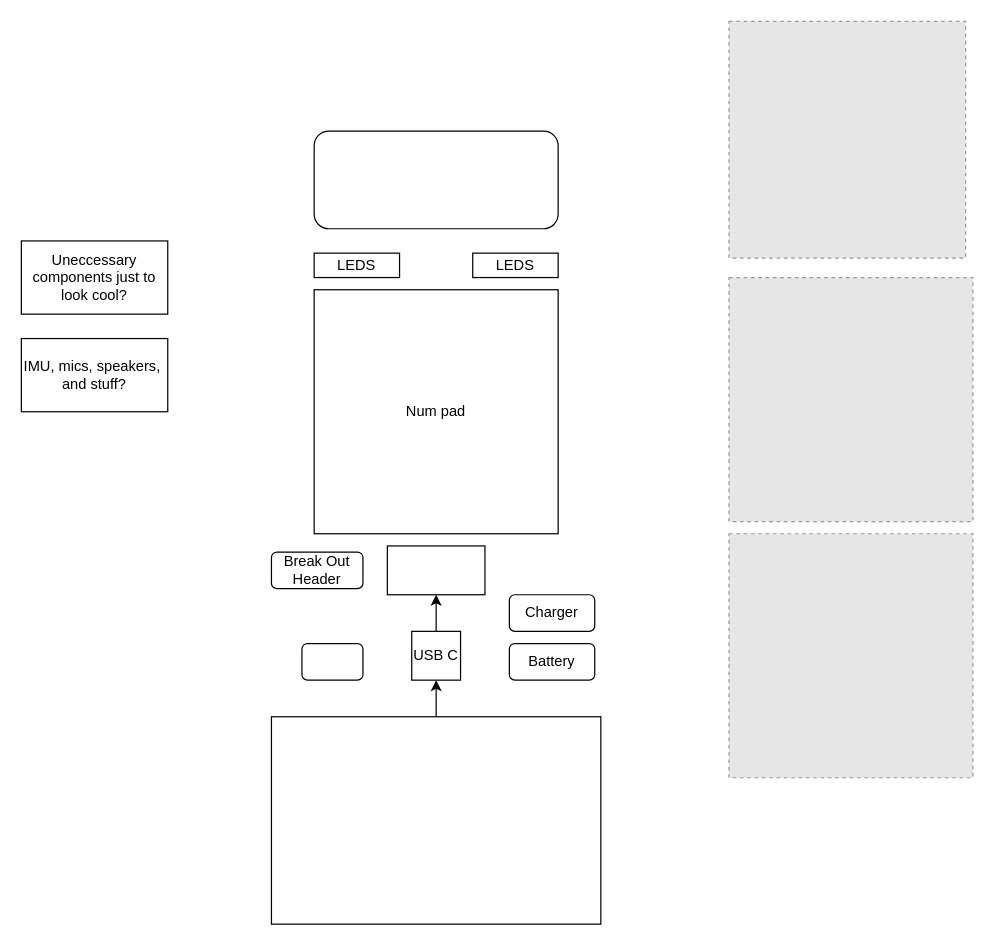
This 994x946 diagram has some shape labels left out. Grey dashed boxes stand in for pictures. Each missing label, with the centre of its shape:
Display: [435,179]
ON/OFF button: [332,661]
PC RUNNING ARDUINO USB: [435,820]
Processor: [435,570]
